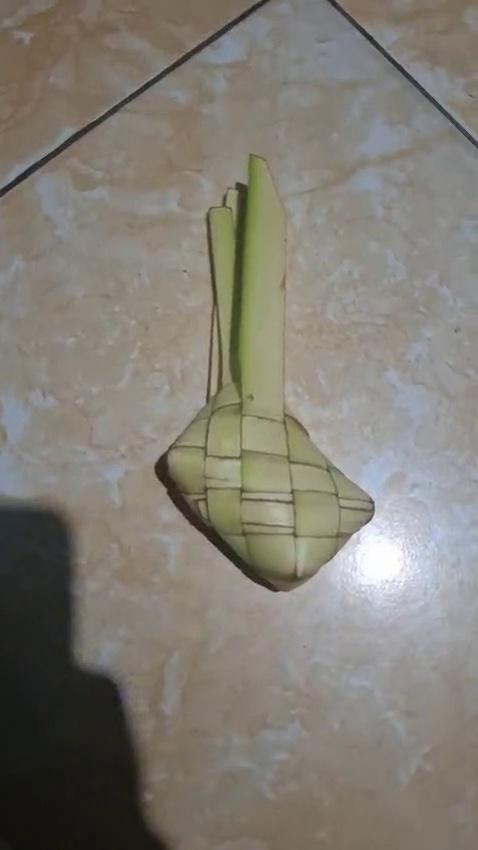Tipat Bantal: (149, 145, 380, 600)
